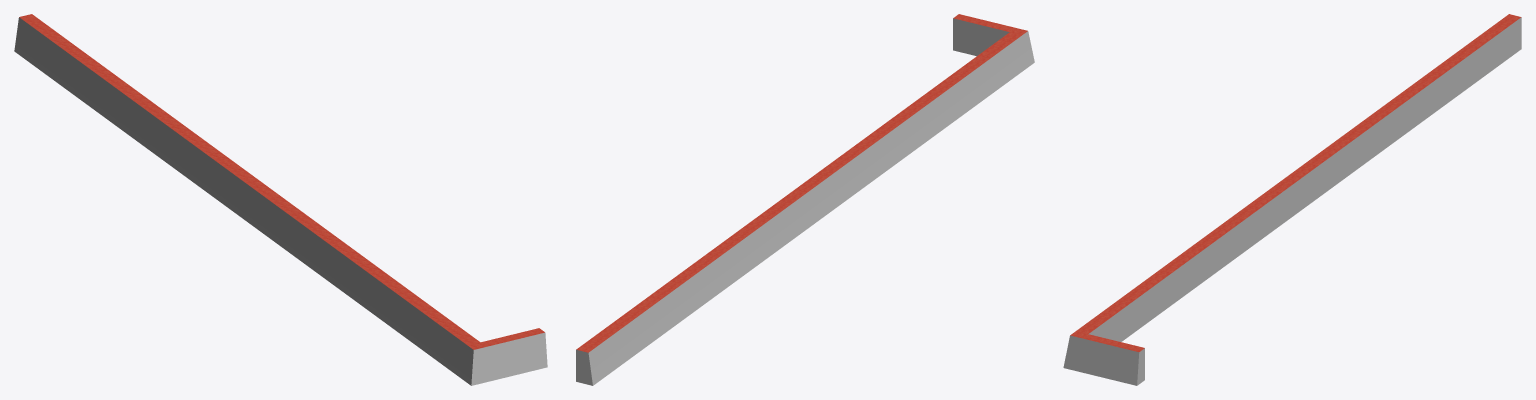
Rendered from Exterior wall 1.FBX.
3 renders of one model, left to right at view 1: azimuth 30°, elevation 25°; view 2: azimuth 150°, elevation 25°; view 3: azimuth 330°, elevation 25°, orthographic. The views are drawn at different scales.
Parts seen in each view (by area): view 1: Exterior wall 1; view 2: Exterior wall 1; view 3: Exterior wall 1.
Part boxes in pixels (x1,y1,x2,y2): Exterior wall 1: (14,14,547,385); Exterior wall 1: (576,14,1034,385); Exterior wall 1: (1063,14,1521,385).
Bounding box in the file's own units: 891 × 371 × 9245.
